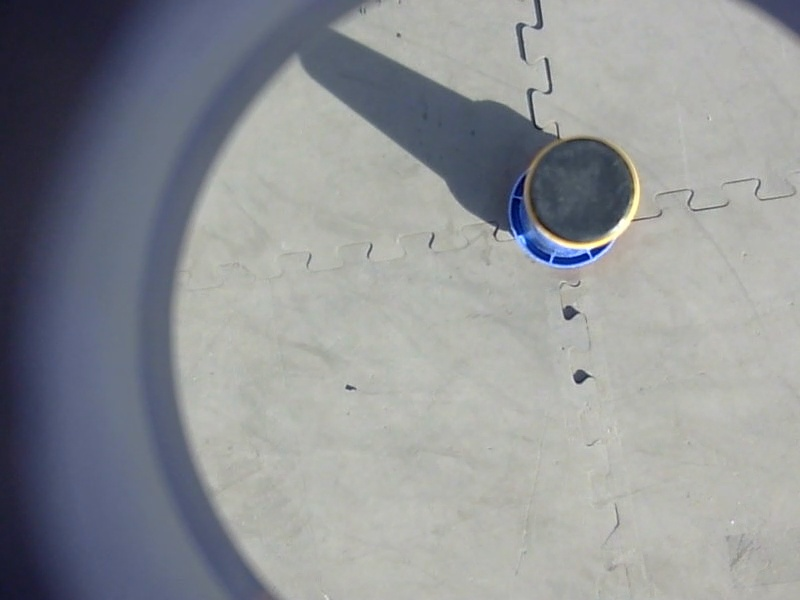tip: (514, 128, 647, 257)
